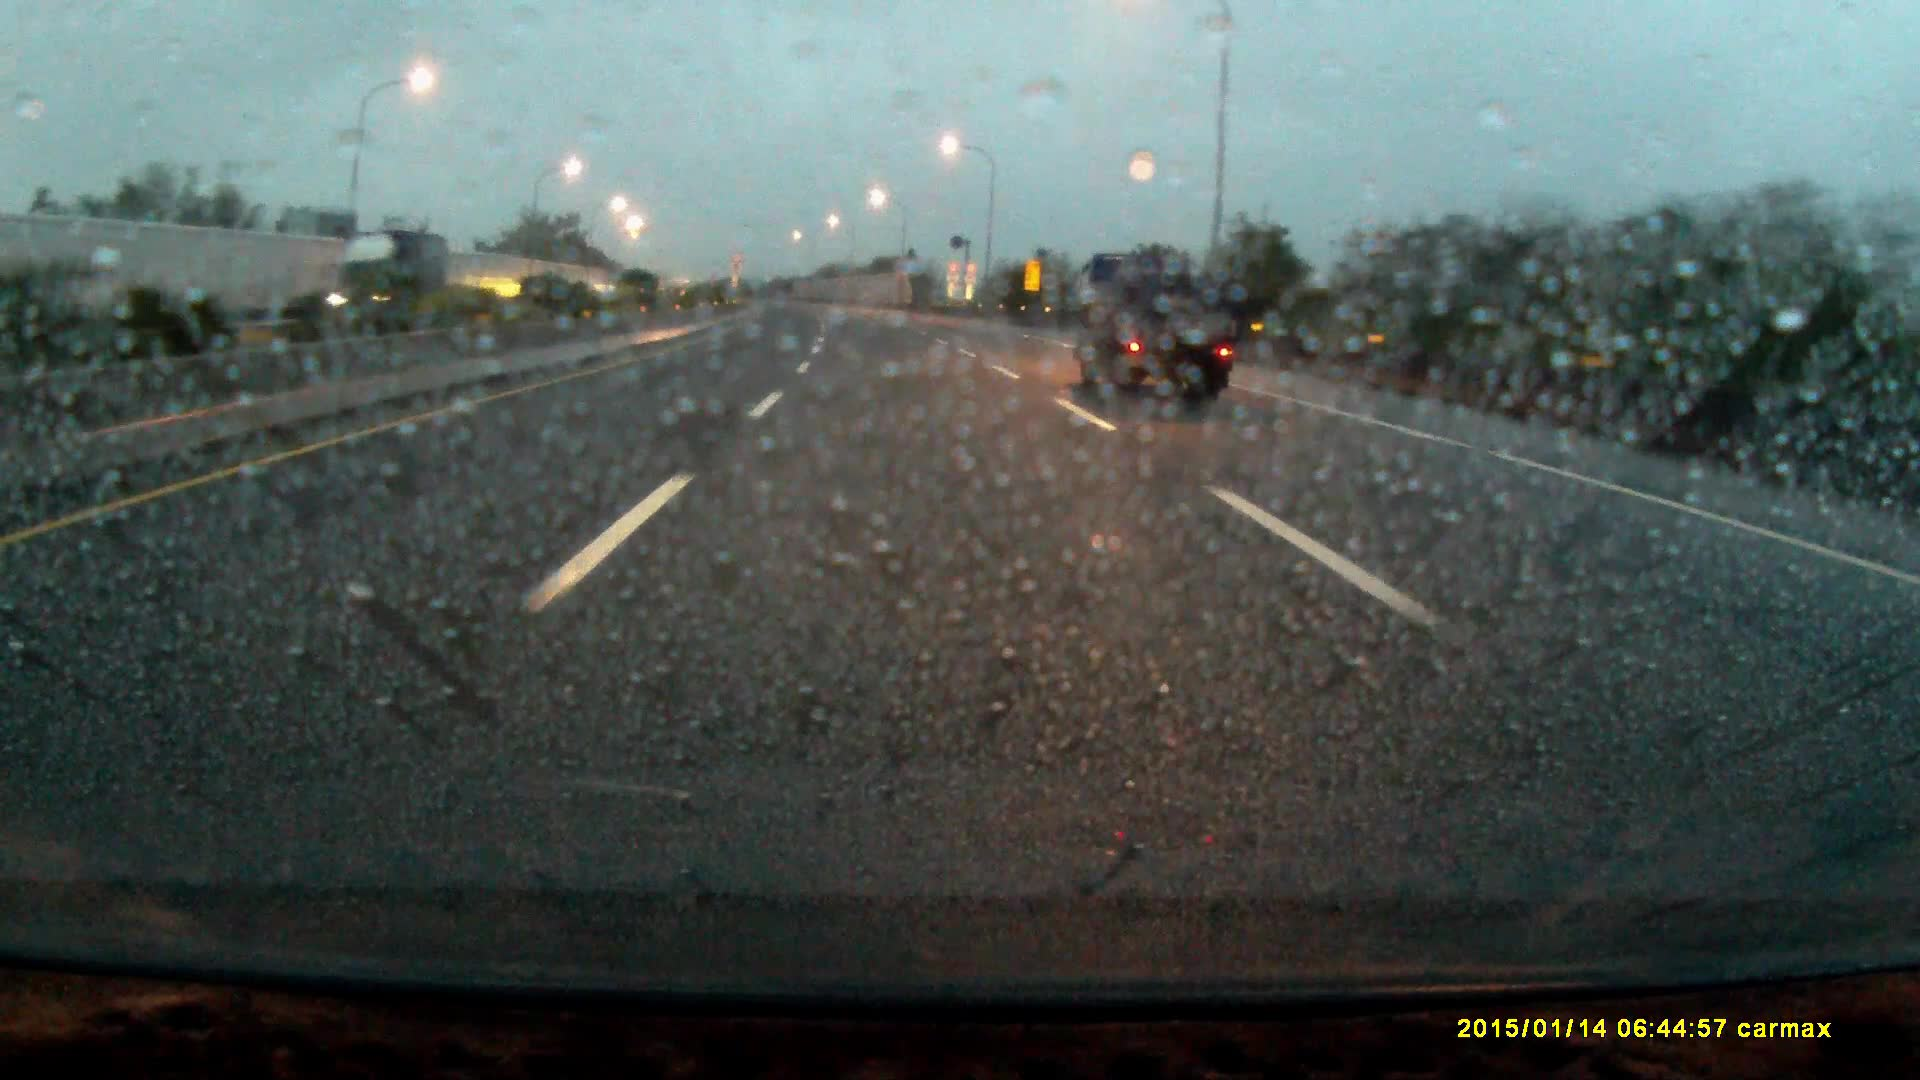vehicle: (1069, 249, 1229, 405), (327, 229, 446, 332)
